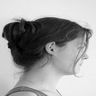ear: (39, 36, 61, 59)
